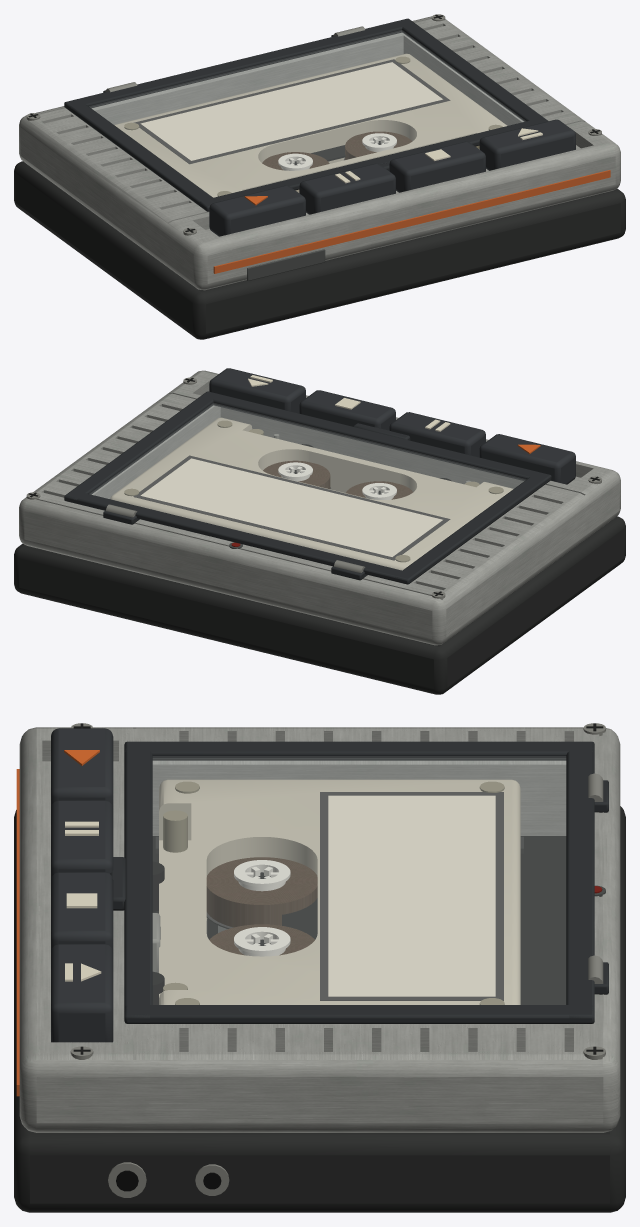
The model's file is cassette-player.glb.
3 renders of one model, top to bottom at view 1: azimuth 30°, elevation 25°; view 2: azimuth 150°, elevation 25°; view 3: azimuth 270°, elevation 25°, orthographic. The views are drawn at different scales.
Visible parts, largest first — view 1: body_top, door_glass, body_base, sideA, shell, door_frame_back, stripe, keyPlay_cap, keyPause_cap, keyFlip_cap, keyStop_cap, door_frame_side-1 (+6 smaller); view 2: body_top, door_glass, body_base, shell, sideA, door_frame_front, door_frame_back, door_frame_side-1, keyPlay_cap, door_frame_side1, keyFlip_cap, keyPause_cap (+4 smaller); view 3: door_glass, body_top, body_base, sideA, shell, door_frame_side-1, door_frame_side1, bay_floor, door_frame_front, door_frame_back, keyFlip_cap, labelBorder-1 (+12 smaller).
Part boxes in pixels (x1,y1,x2,y2): body_top: [19, 16, 620, 290]; door_glass: [90, 31, 524, 197]; body_base: [14, 161, 625, 339]; sideA: [140, 62, 442, 160]; shell: [114, 53, 507, 197]; door_frame_back: [64, 18, 413, 112]; stripe: [213, 170, 610, 273]; keyPlay_cap: [209, 185, 305, 236]; keyPause_cap: [299, 163, 395, 214]; keyFlip_cap: [479, 119, 575, 170]; keyStop_cap: [389, 141, 485, 192]; door_frame_side-1: [64, 102, 215, 211]; body_top: [19, 370, 620, 645]; door_glass: [90, 404, 524, 569]; body_base: [14, 516, 625, 694]; shell: [110, 417, 513, 570]; sideA: [140, 458, 442, 556]; door_frame_front: [201, 391, 551, 484]; door_frame_back: [65, 490, 415, 583]; door_frame_side-1: [395, 472, 551, 584]; keyPlay_cap: [479, 434, 575, 484]; door_frame_side1: [64, 392, 219, 503]; keyFlip_cap: [209, 368, 305, 413]; keyPause_cap: [389, 412, 485, 457]; door_glass: [153, 758, 565, 1004]; body_top: [19, 727, 620, 1132]; body_base: [14, 806, 625, 1212]; sideA: [328, 795, 495, 996]; shell: [159, 779, 520, 1004]; door_frame_side-1: [124, 741, 594, 760]; door_frame_side1: [124, 1005, 594, 1023]; bay_floor: [152, 836, 566, 1004]; door_frame_front: [124, 741, 152, 1023]; door_frame_back: [566, 741, 594, 1023]; keyFlip_cap: [51, 944, 113, 1042]; labelBorder-1: [320, 792, 503, 1000].
Bounding box in the file's own units: 14.48 × 3.7 × 10.8.
21 materials, 2 textured.
